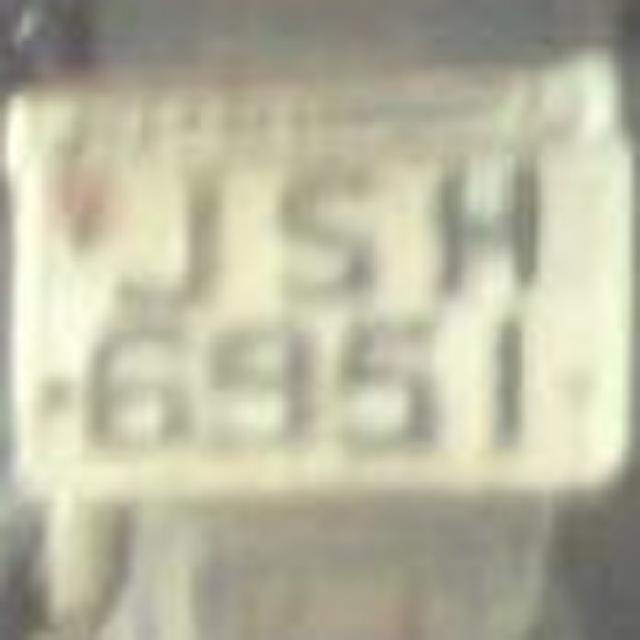1: (468, 304, 540, 451)
5: (315, 300, 460, 460)
6: (71, 295, 204, 480)
9: (192, 288, 328, 468)
J: (100, 144, 232, 316)
N: (412, 140, 548, 300)
S: (265, 148, 380, 304)
